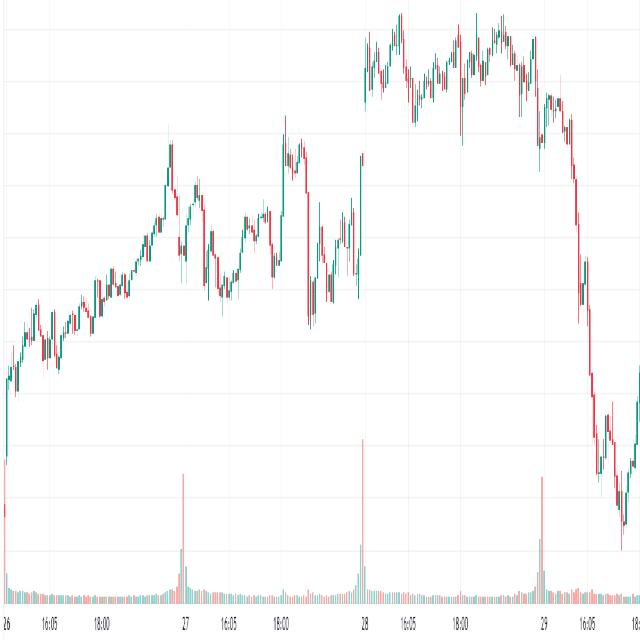Ascending-Triangle: (305, 206, 358, 369)
Double-Top: (277, 118, 312, 231)
Falling-Wedge: (138, 80, 243, 318)
